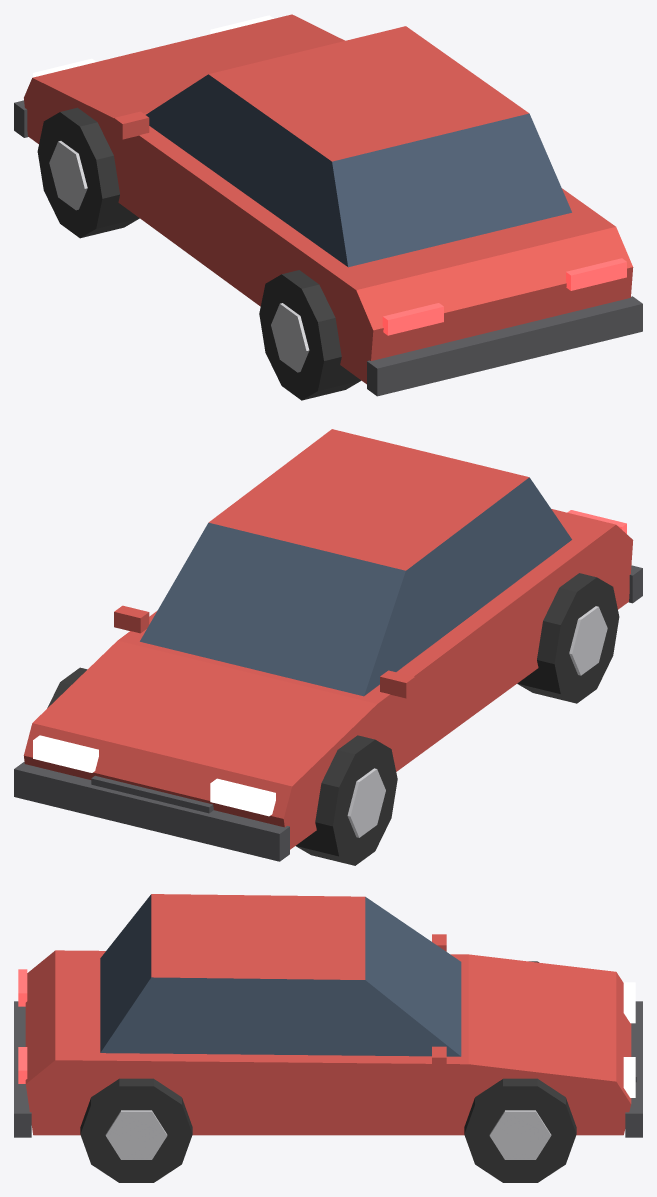
The model's file is low-poly-car.glb.
The picture shows the model from 3 angles, top to bottom: view 1: azimuth 30°, elevation 25°; view 2: azimuth 150°, elevation 25°; view 3: azimuth 270°, elevation 25°; orthographic projection. The views are drawn at different scales.
Visible parts, largest first — view 1: CarBody, Wheel_RL, Wheel_FL; view 2: CarBody, Wheel_RL, Wheel_FL; view 3: CarBody, Wheel_FR, Wheel_RR.
Boxes of the visible parts, box(x1,y1,x2,y2) form: CarBody: box(14, 14, 642, 396); Wheel_RL: box(259, 270, 361, 400); Wheel_FL: box(37, 107, 139, 238); CarBody: box(14, 429, 642, 861); Wheel_RL: box(517, 573, 619, 703); Wheel_FL: box(296, 735, 397, 865); CarBody: box(14, 894, 642, 1137); Wheel_FR: box(464, 1078, 576, 1182); Wheel_RR: box(80, 1078, 192, 1182).
Bounding box in the file's own units: 2.04 × 1.38 × 4.26.
